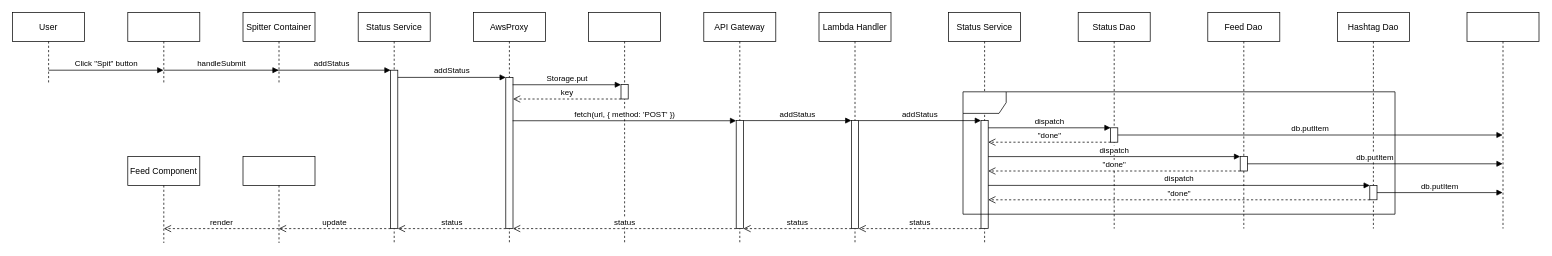
Image size: 1552x256. Some labels were removed from this diagram. Here are the shapes that lost their labels. From the top down, the box of each, then its label:
(127, 12, 200, 85): Spitter Component
(588, 12, 661, 243): Amplify S3 Storage
(1466, 12, 1539, 229): DynamoDB
(962, 91, 1395, 214): async
(242, 156, 315, 243): Feed Container
